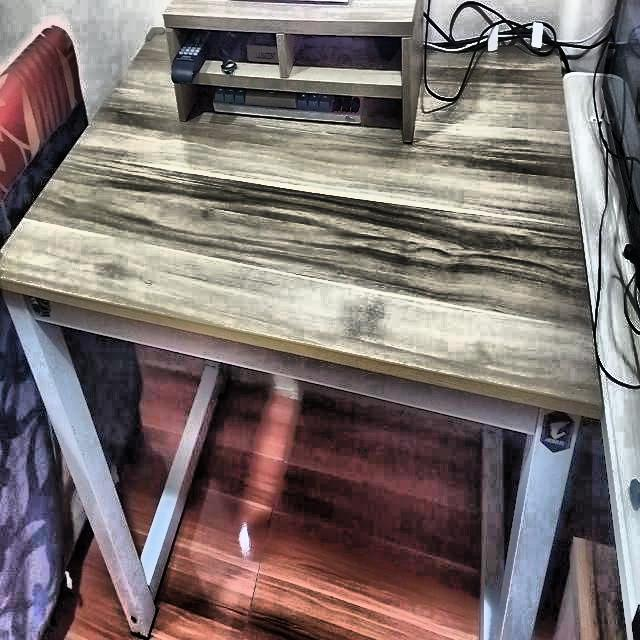mesa: (0, 22, 604, 640)
